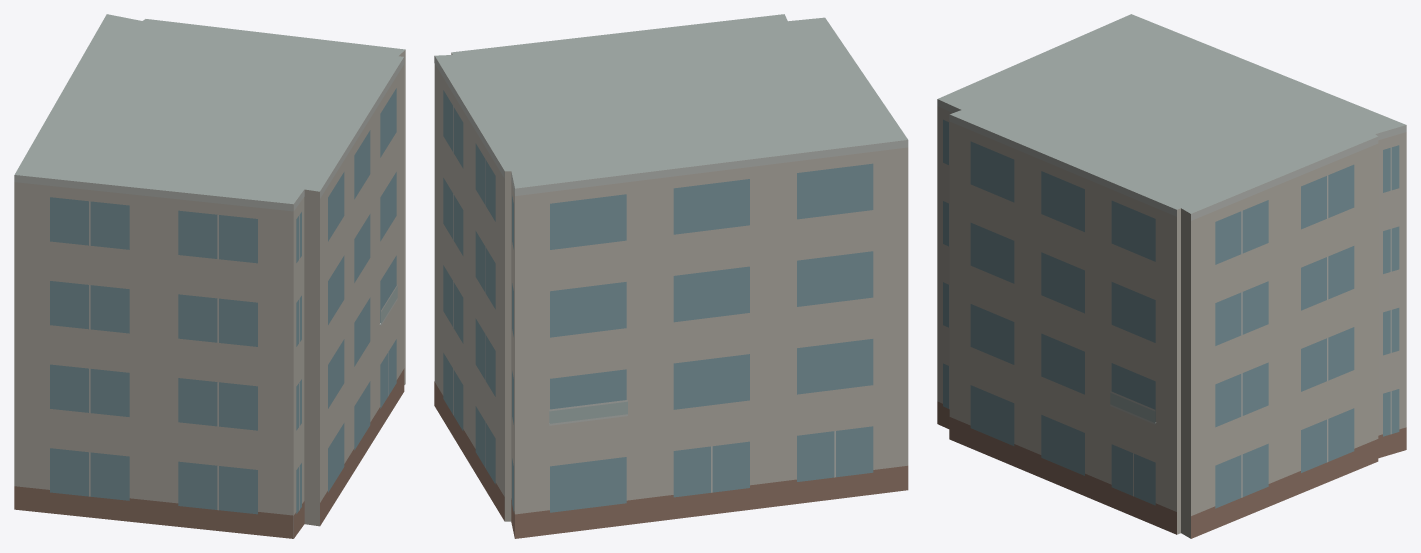
Rendered from survey-upis-32669075.glb.
3 views of the same model, side by side, from view 1: azimuth 30°, elevation 25°; view 2: azimuth 150°, elevation 25°; view 3: azimuth 270°, elevation 25° (orthographic). The views are drawn at different scales.
Visible parts, largest first — view 1: survey-upis-32669075.tmp; view 2: survey-upis-32669075.tmp; view 3: survey-upis-32669075.tmp.
Boxes of the visible parts, bbox=[...] form: survey-upis-32669075.tmp: bbox=[14, 14, 405, 538]; survey-upis-32669075.tmp: bbox=[434, 14, 908, 538]; survey-upis-32669075.tmp: bbox=[937, 14, 1406, 538].
Bounding box in the file's own units: 14.92 × 11.3 × 14.79.
